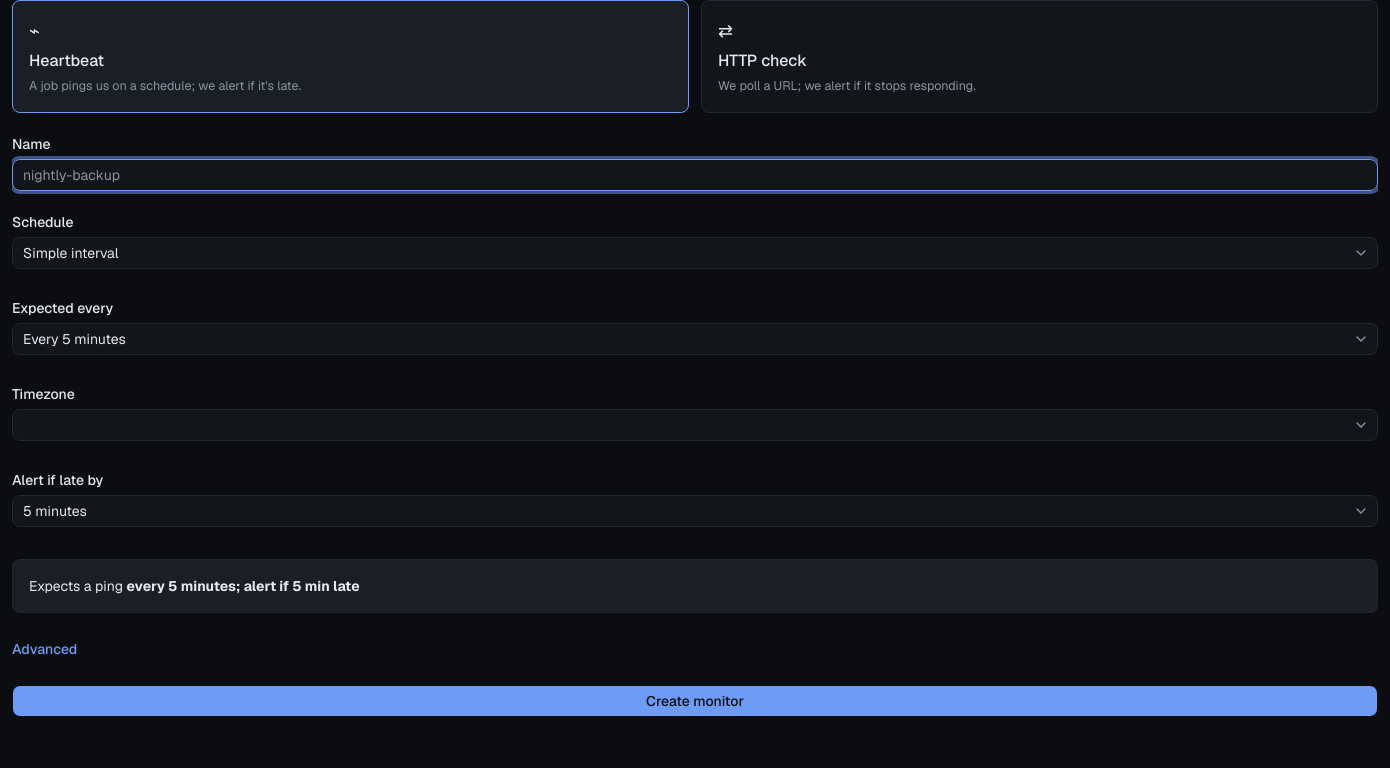
Test: MonitorForm › shows the backend's inline field error on a 422 without a generic banner
This screenshot has width=1390, height=768.
Click the text "HTTP check" at (762, 60), box x1=718 y1=50 x2=807 y2=71
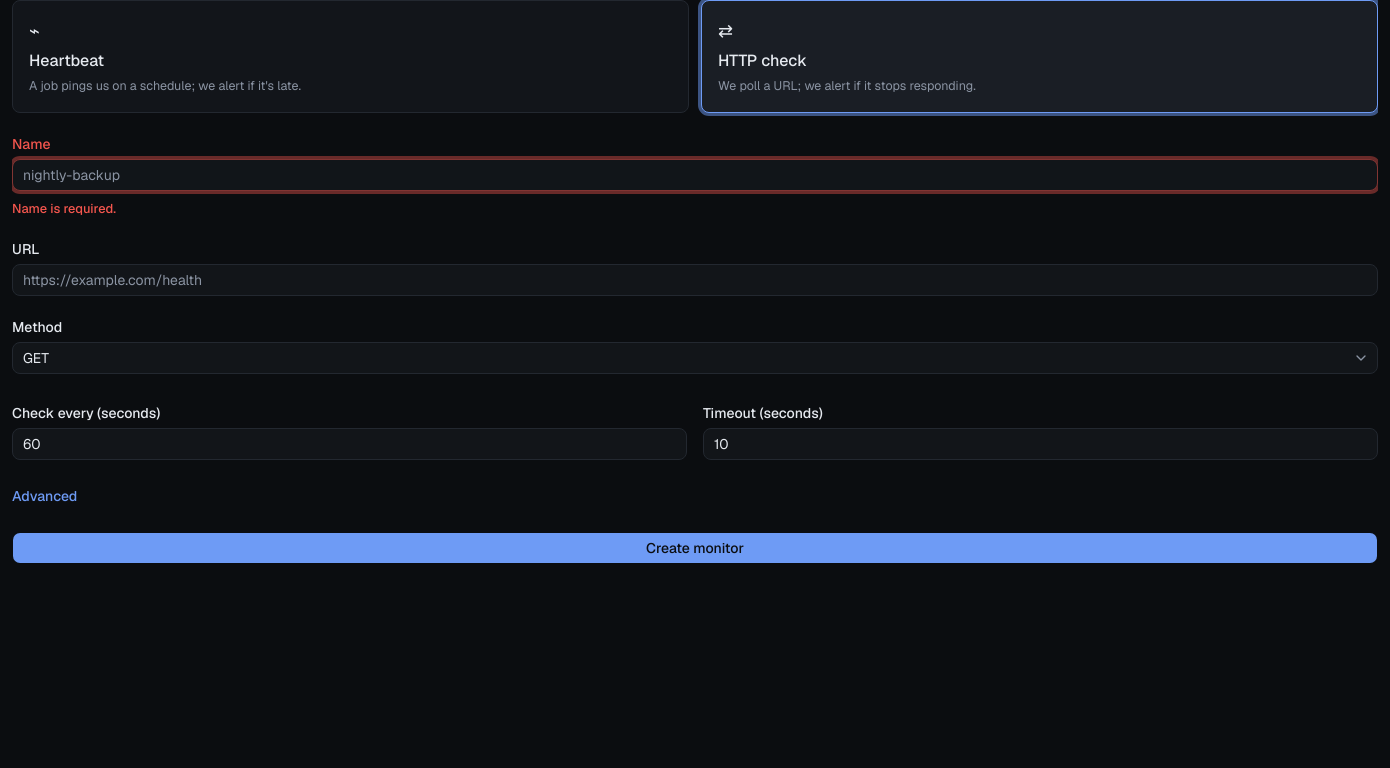
Type "web-health" into the field labelled "Name" at (695, 175), box x1=12 y1=159 x2=1378 y2=191
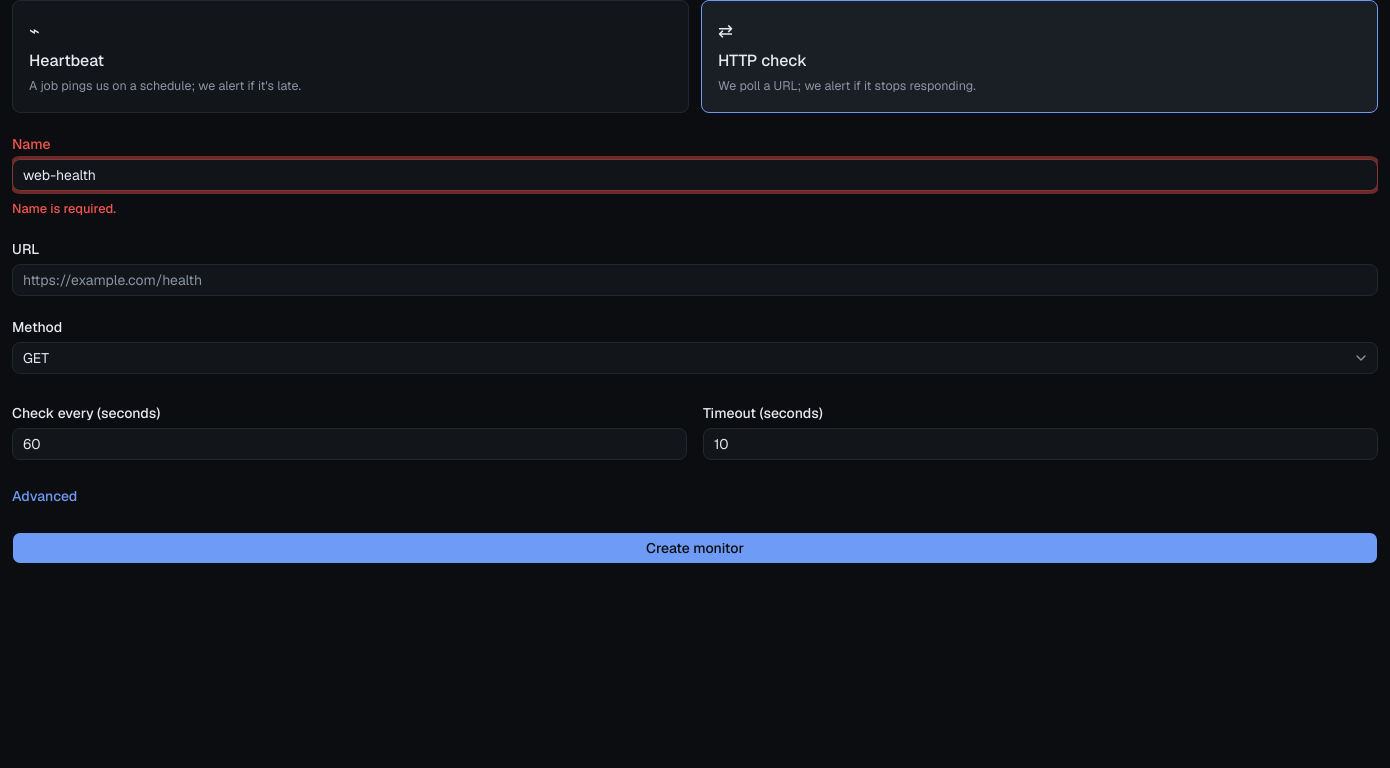
Type "https://example.com" into the field labelled "URL" at (695, 280), box x1=12 y1=264 x2=1378 y2=296
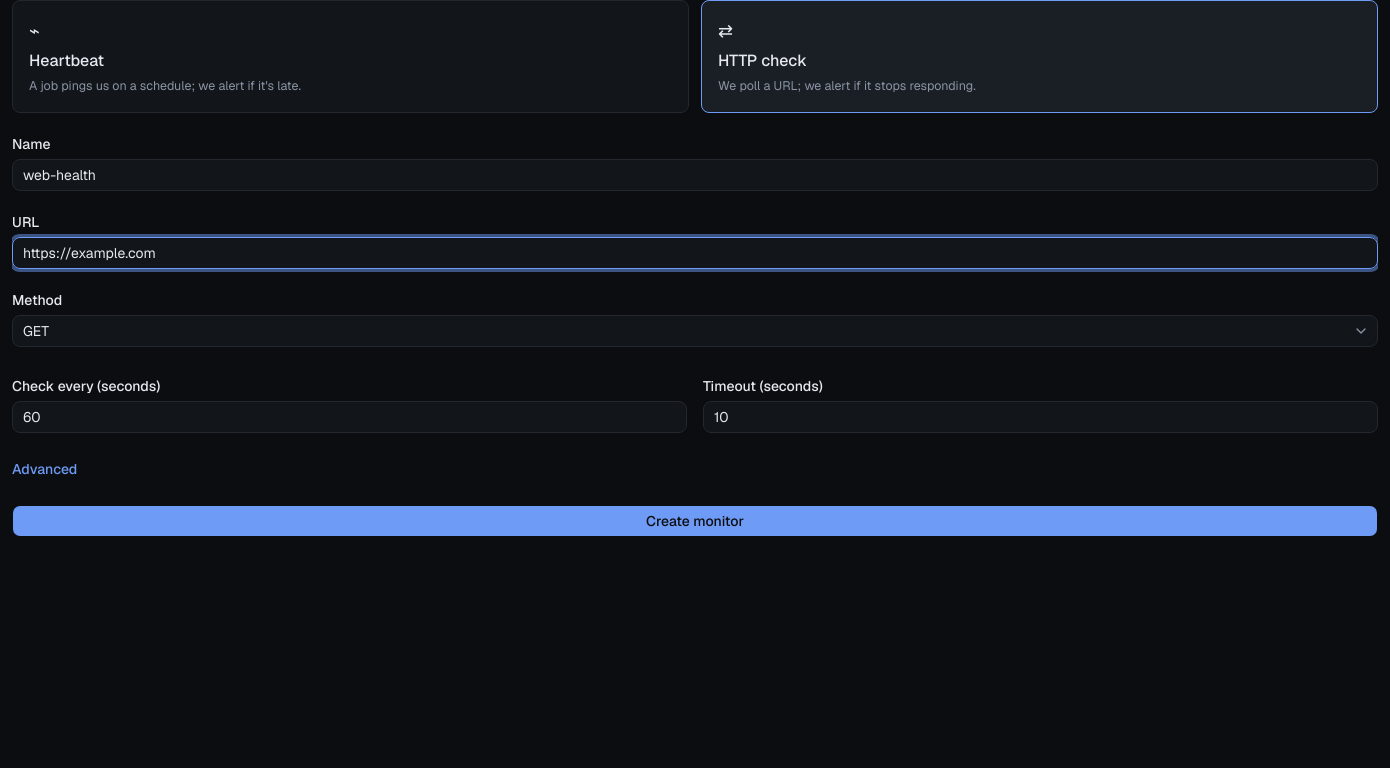
Click the button "Create monitor" at (695, 521), box x1=12 y1=505 x2=1378 y2=537
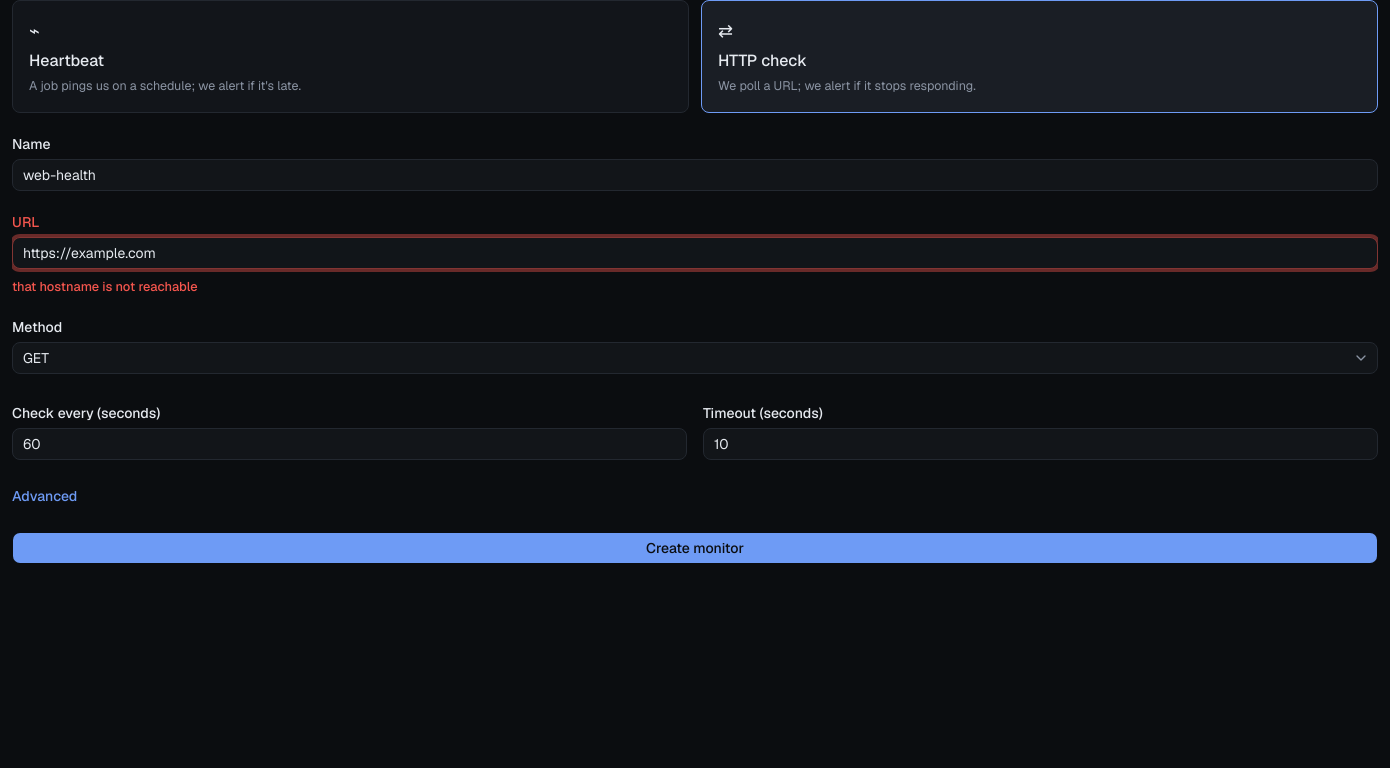
expect the text "that hostname is not reachable" is shown: met, box x1=12 y1=278 x2=198 y2=295
